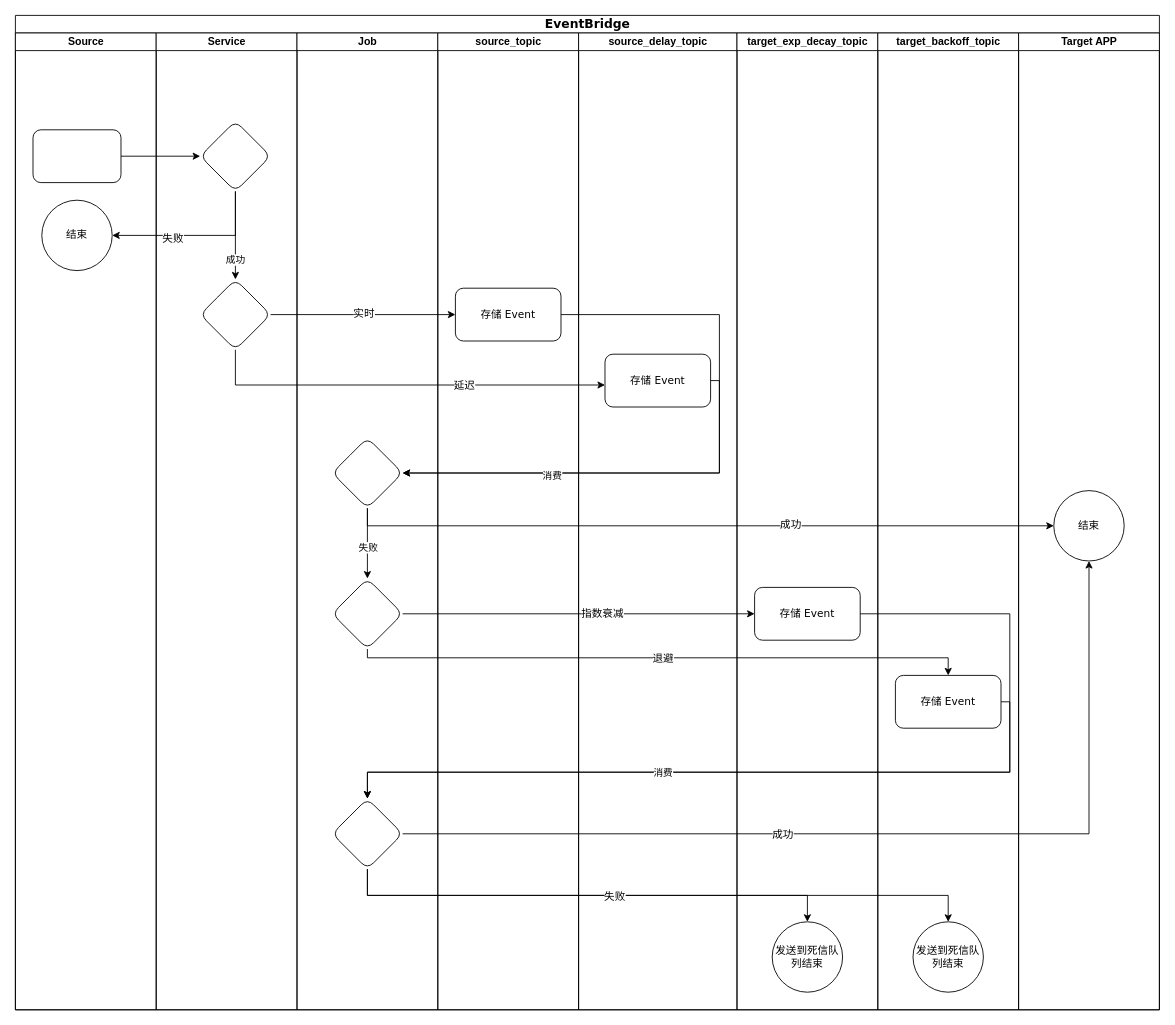
This 1175x1025 diagram has some shape labels left out. Each missing label, with the centre of its shape:
Schema 校验: the point at 235,155
匹配、转换和发送 Event: the point at 367,472
发送 Event: the point at 76,156
实时还是延迟 Event？: the point at 235,314
指数衰减/退避重试策略: the point at 367,613
重试成功或失败: the point at 367,833
